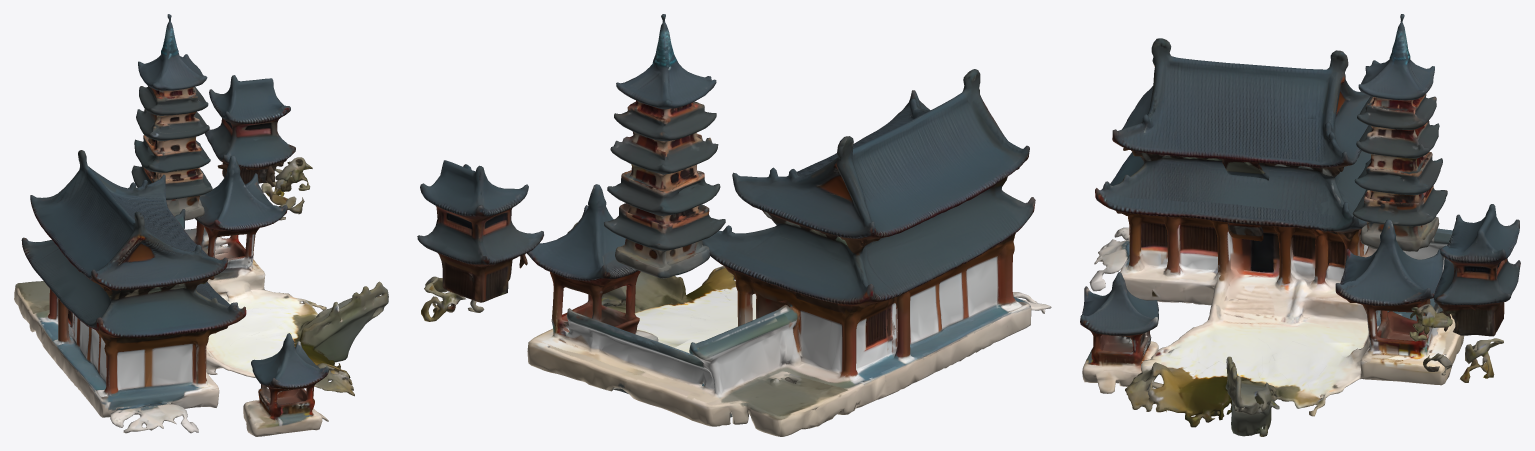
The picture shows the model from 3 angles, left to right: view 1: azimuth 30°, elevation 25°; view 2: azimuth 150°, elevation 25°; view 3: azimuth 270°, elevation 25°; orthographic projection. The views are drawn at different scales.
Parts seen in each view (by area): view 1: material.001; view 2: material.001; view 3: material.001.
Part boxes in pixels (x1,y1,x2,y2): material.001: (14,14,388,436); material.001: (417,14,1051,436); material.001: (1080,14,1520,436).
Bounding box in the file's own units: 0.8298 × 0.7576 × 0.83.
Materials: 1 (1 with a texture image).
